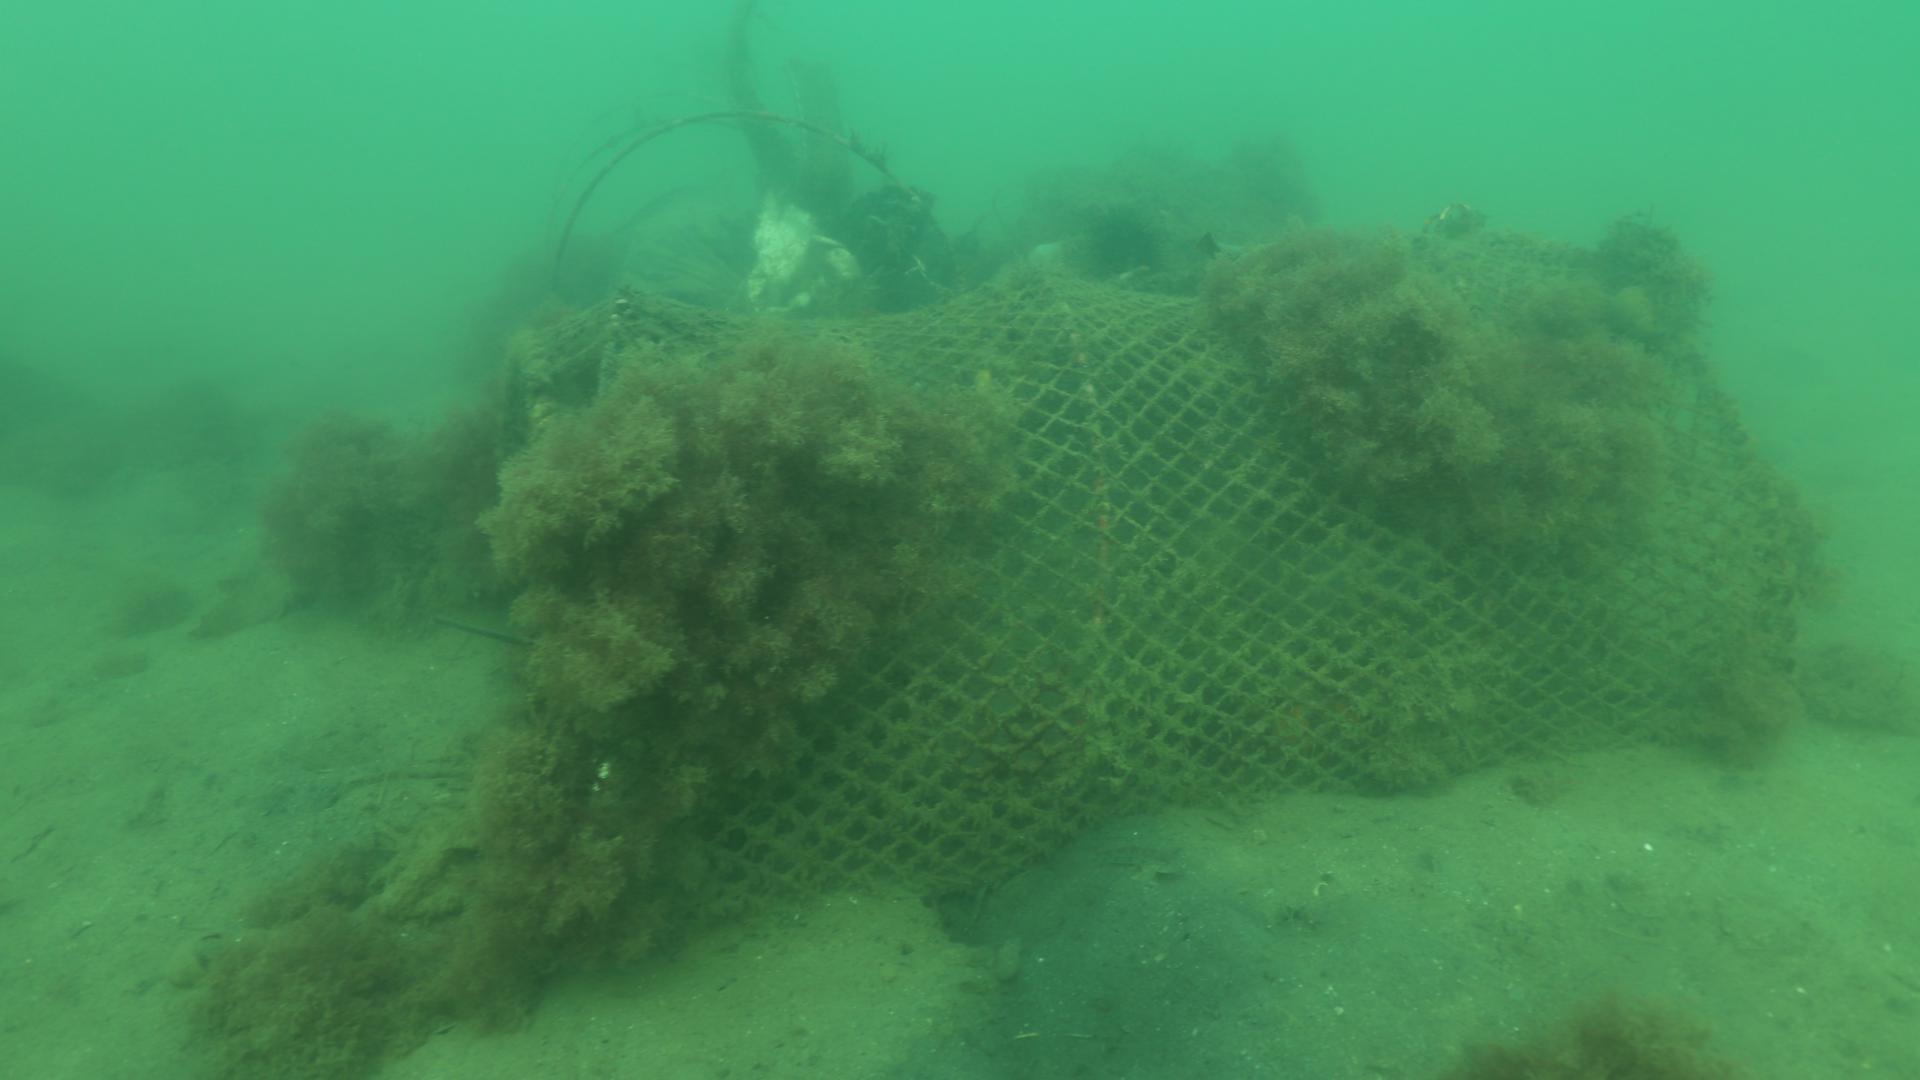spring fish trap: (492, 232, 1815, 955)
